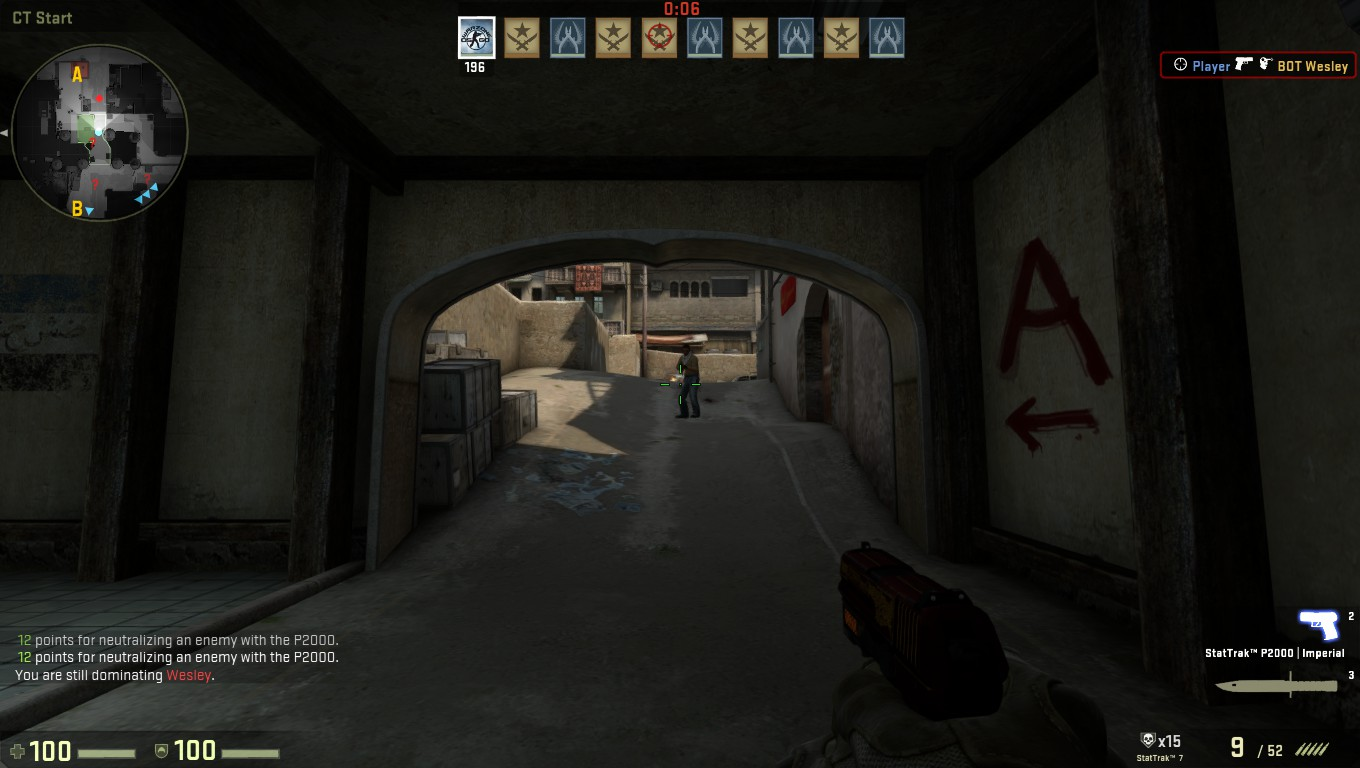t: (674, 343, 704, 420)
th: (679, 344, 693, 360)
